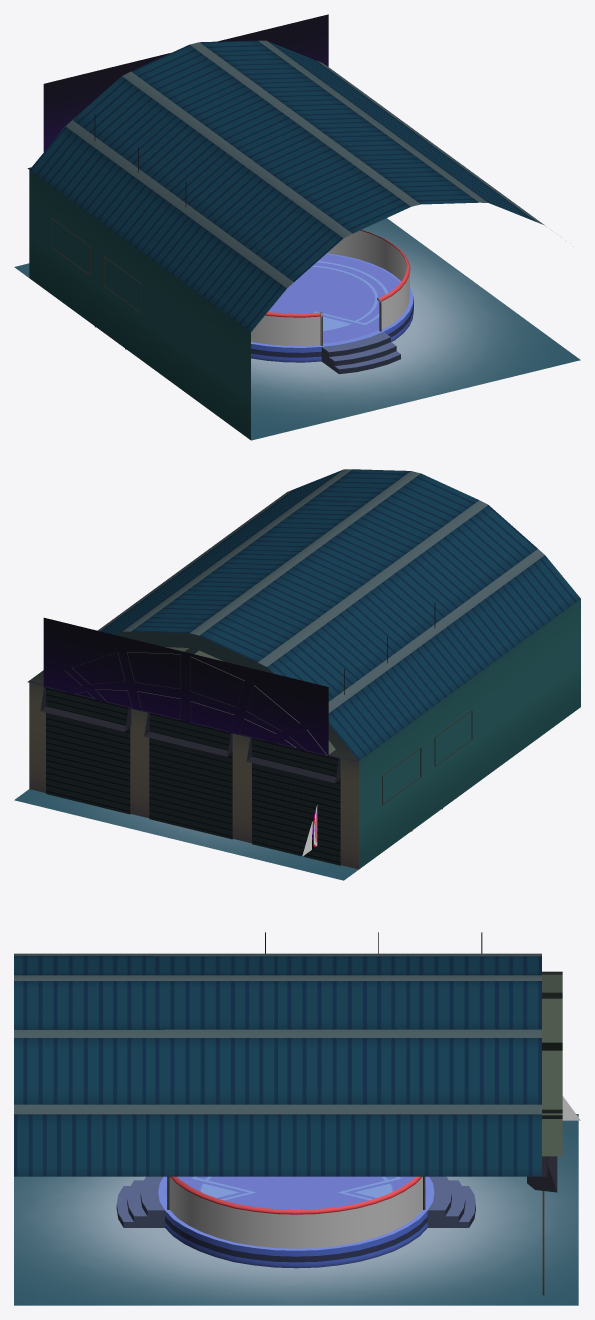
File: Sandau_tron.fbx
3 renders of one model, top to bottom at view 1: azimuth 30°, elevation 25°; view 2: azimuth 150°, elevation 25°; view 3: azimuth 270°, elevation 25°, orthographic. The views are drawn at different scales.
Parts seen in each view (by area): view 1: Nha_thidau, Sandau_tron, Luoi_90_new1; view 2: Nha_thidau; view 3: Nha_thidau, Sandau_tron, Luoi_90_new1.
Part boxes in pixels (left/top/right/bottom): Nha_thidau: left=14, top=14, right=580, bottom=440; Sandau_tron: left=251, top=230, right=413, bottom=374; Luoi_90_new1: left=251, top=230, right=409, bottom=346; Nha_thidau: left=14, top=469, right=580, bottom=880; Nha_thidau: left=14, top=932, right=578, bottom=1305; Sandau_tron: left=116, top=1176, right=475, bottom=1268; Luoi_90_new1: left=169, top=1177, right=422, bottom=1248.
Size of the model in its own units: 141 by 81.94 by 175.
